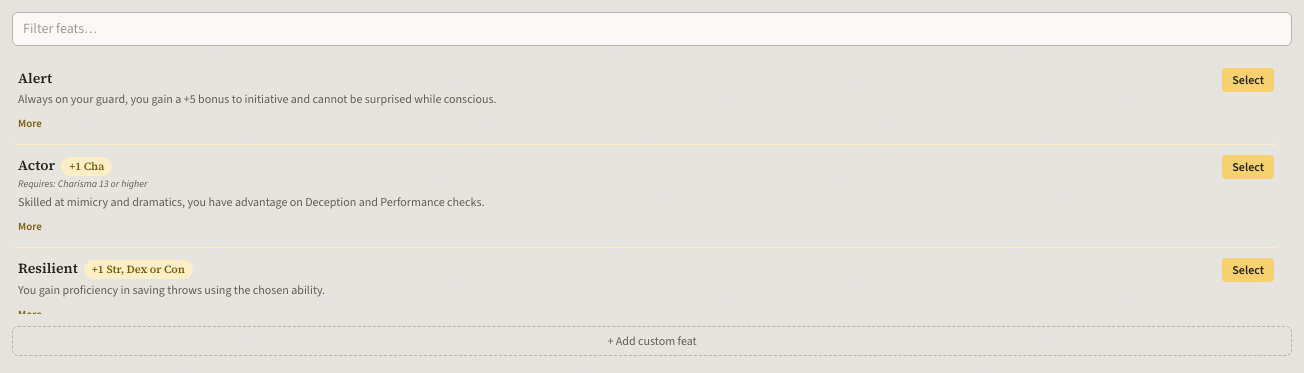
Test case: FeatFlow — catalog list (frame A) › selecting a feat opens the detail view
The image size is (1304, 373).
Click the button "Select" in the row of "Alert" at (1248, 80), box [1222,68,1274,92]
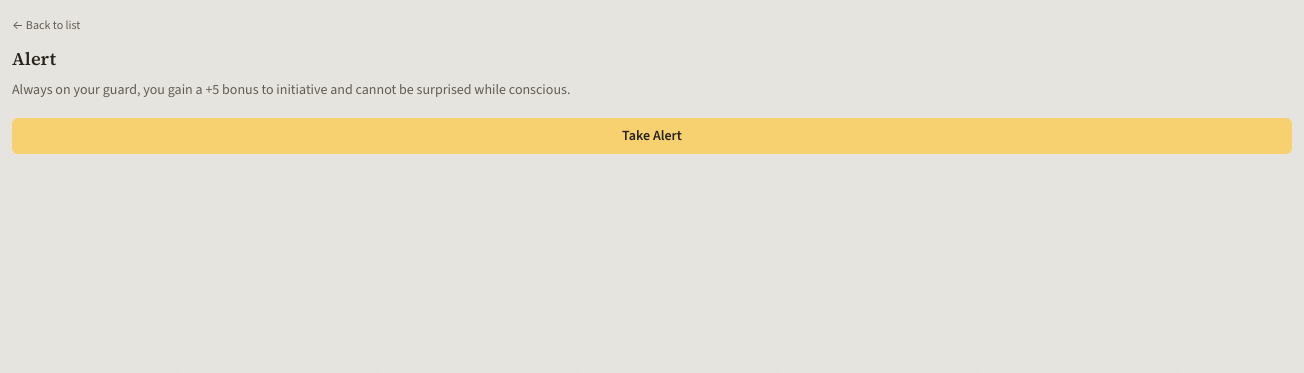
expect the button "← Back to list" is shown: met, box [12,17,80,33]
